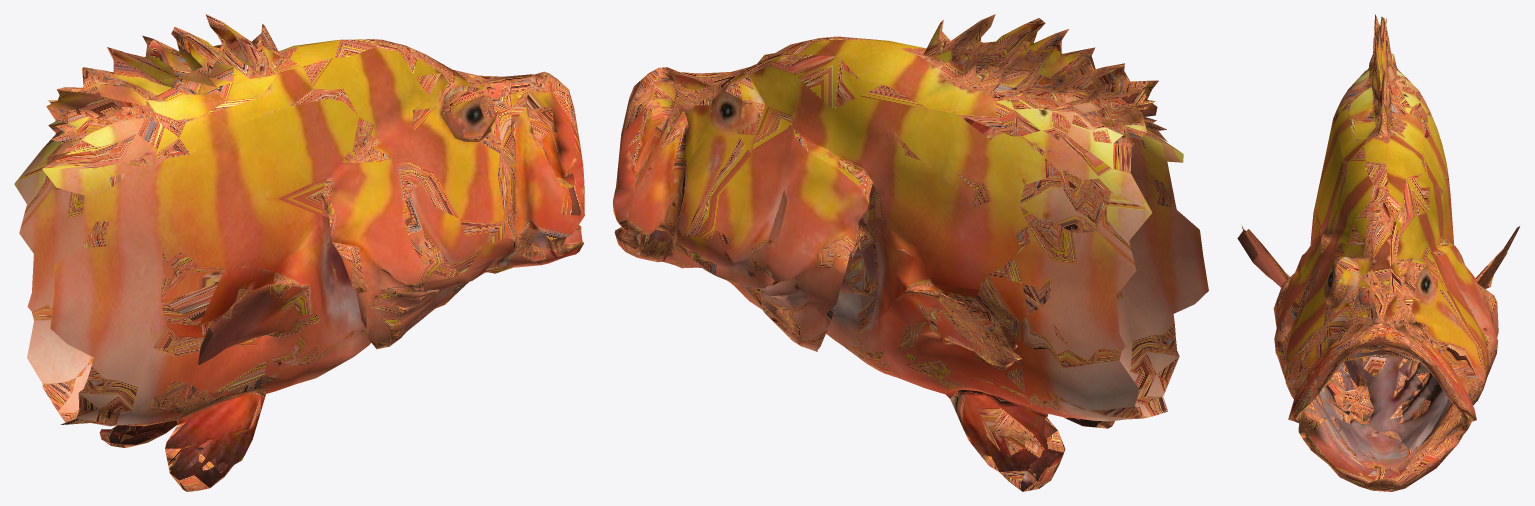
Rendered from neptune_a.glb.
3 renders of one model, left to right at view 1: azimuth 30°, elevation 25°; view 2: azimuth 150°, elevation 25°; view 3: azimuth 270°, elevation 25°, orthographic. The views are drawn at different scales.
Parts seen in each view (by area): view 1: neptune_a; view 2: neptune_a; view 3: neptune_a.
Part boxes in pixels (bbox=[...]): neptune_a: bbox=[14, 14, 584, 491]; neptune_a: bbox=[613, 14, 1208, 491]; neptune_a: bbox=[1237, 14, 1519, 491].
Size of the model in its own units: 0.6164 by 0.4712 by 0.3051.
Materials: 1 (1 with a texture image).
